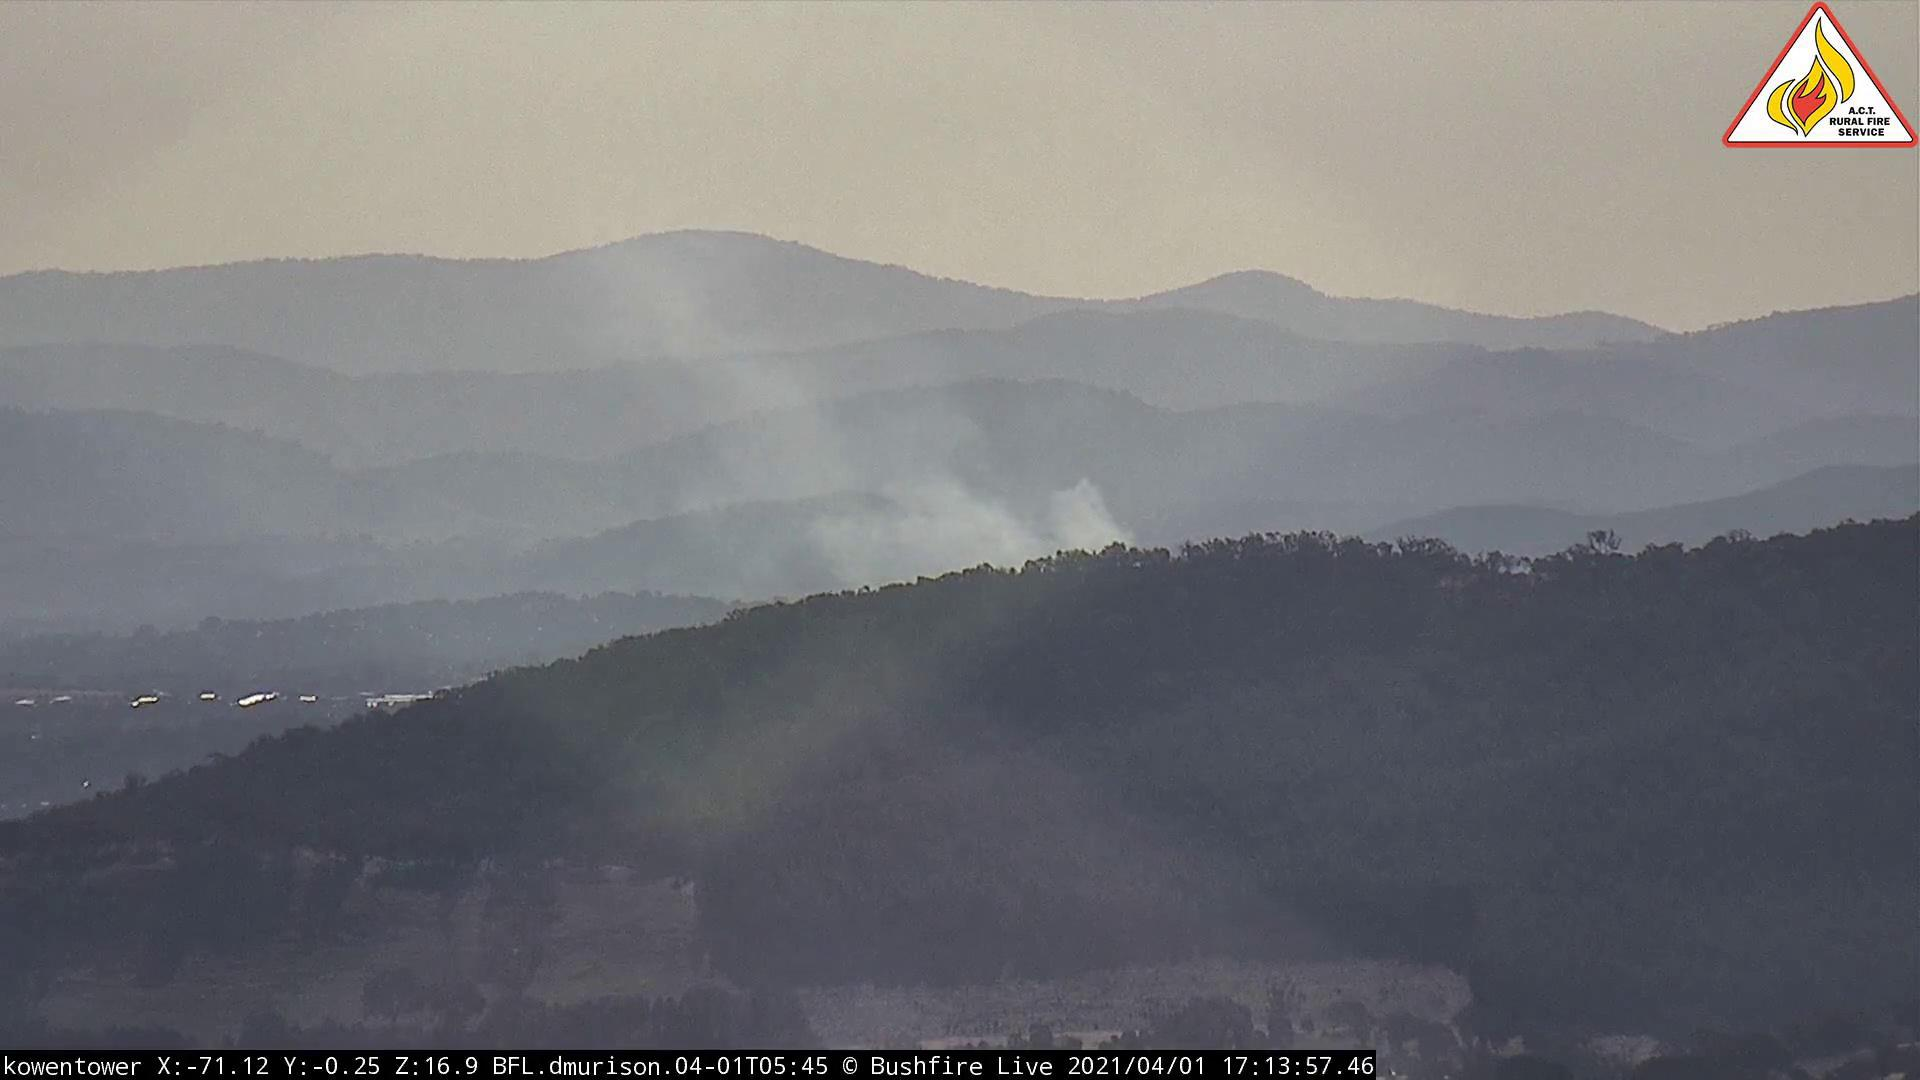Smoke: (588, 241, 1153, 638)
